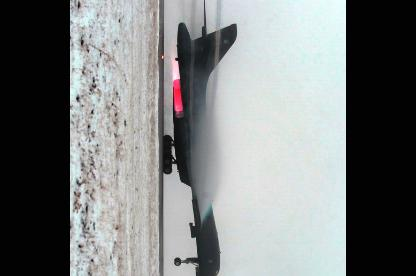AV8B: (163, 0, 239, 275)
